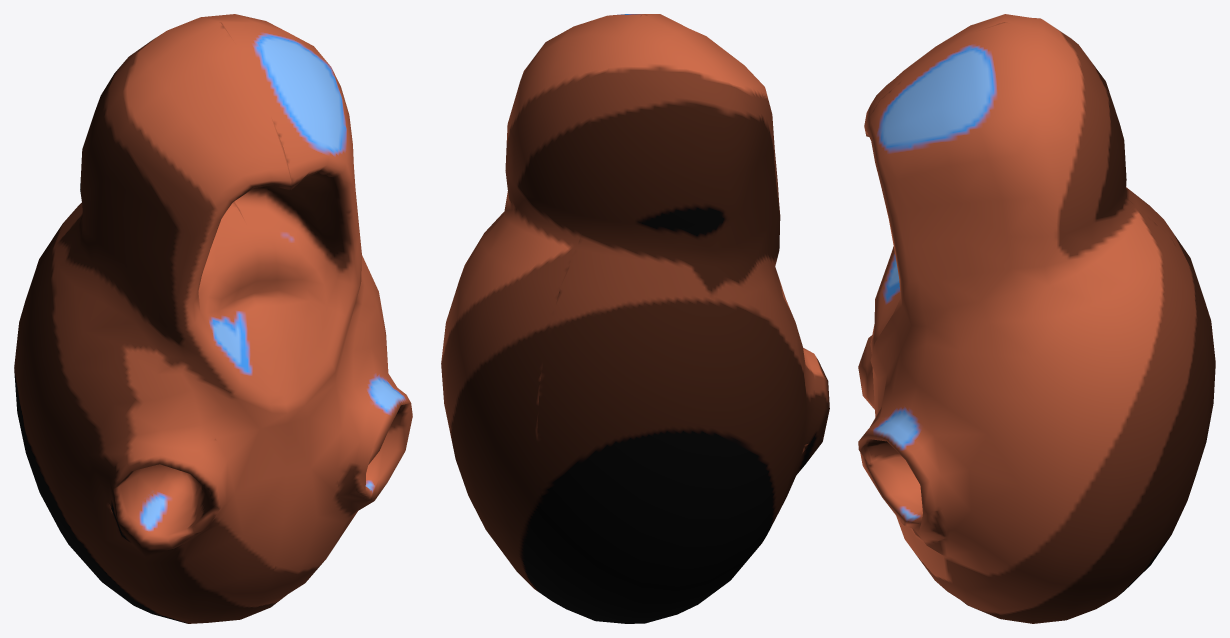
File: Spirit.fbx
3 renders of one model, left to right at view 1: azimuth 30°, elevation 25°; view 2: azimuth 150°, elevation 25°; view 3: azimuth 270°, elevation 25°, orthographic. The views are drawn at different scales.
Parts seen in each view (by area): view 1: Hood_low; view 2: Hood_low; view 3: Hood_low.
Boxes of the visible parts, x1,y1,x2,y2 form: Hood_low: (14, 14, 412, 623); Hood_low: (441, 14, 829, 623); Hood_low: (858, 14, 1215, 623).
Bounding box in the file's own units: 2.2 × 3.81 × 2.09.
1 material, 1 textured.
